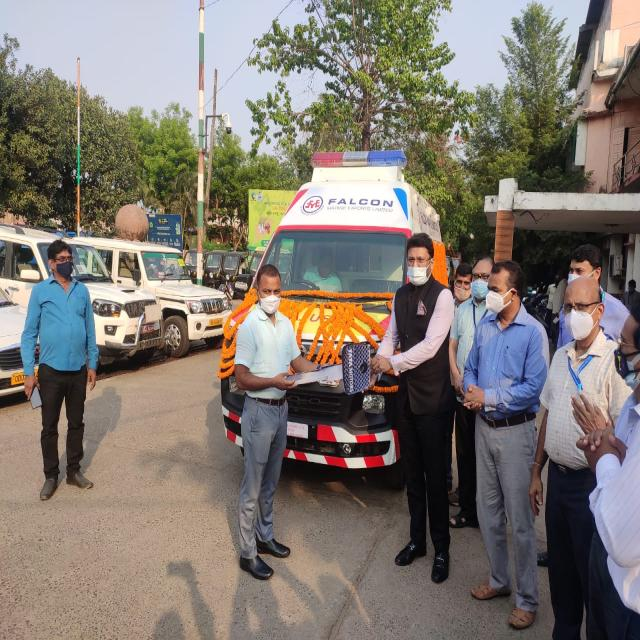car: (88, 238, 230, 357), (69, 238, 164, 365)
emergency: (261, 150, 448, 362)
